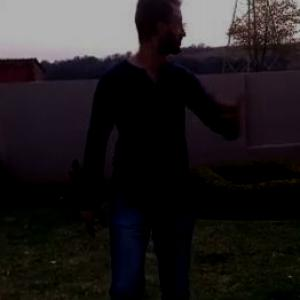takeoff-hand: (209, 77, 252, 137)
